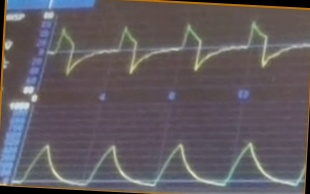Normal Flow: (51, 19, 309, 81)
Normal Volume: (17, 136, 303, 188)
